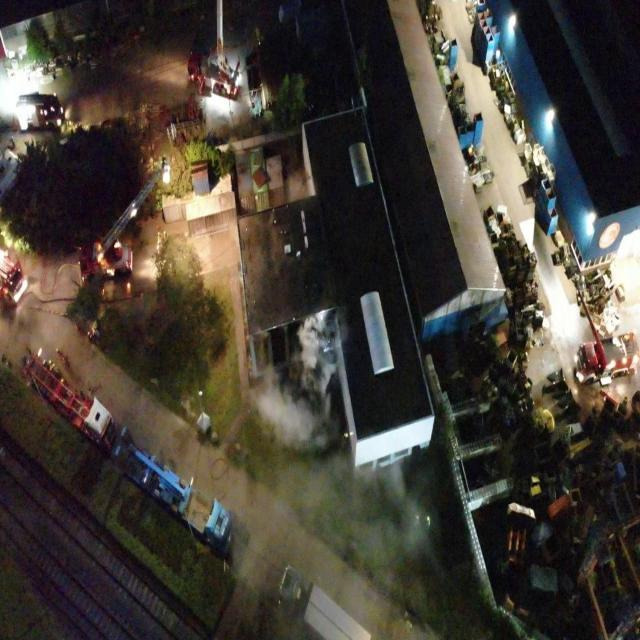Smoke: (248, 306, 440, 586), (286, 170, 310, 202)
